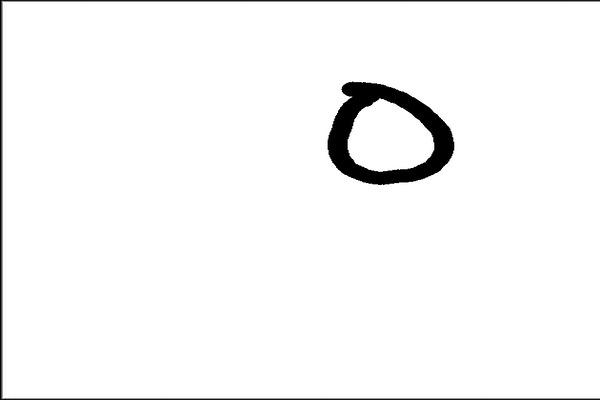O: (308, 73, 468, 188)
